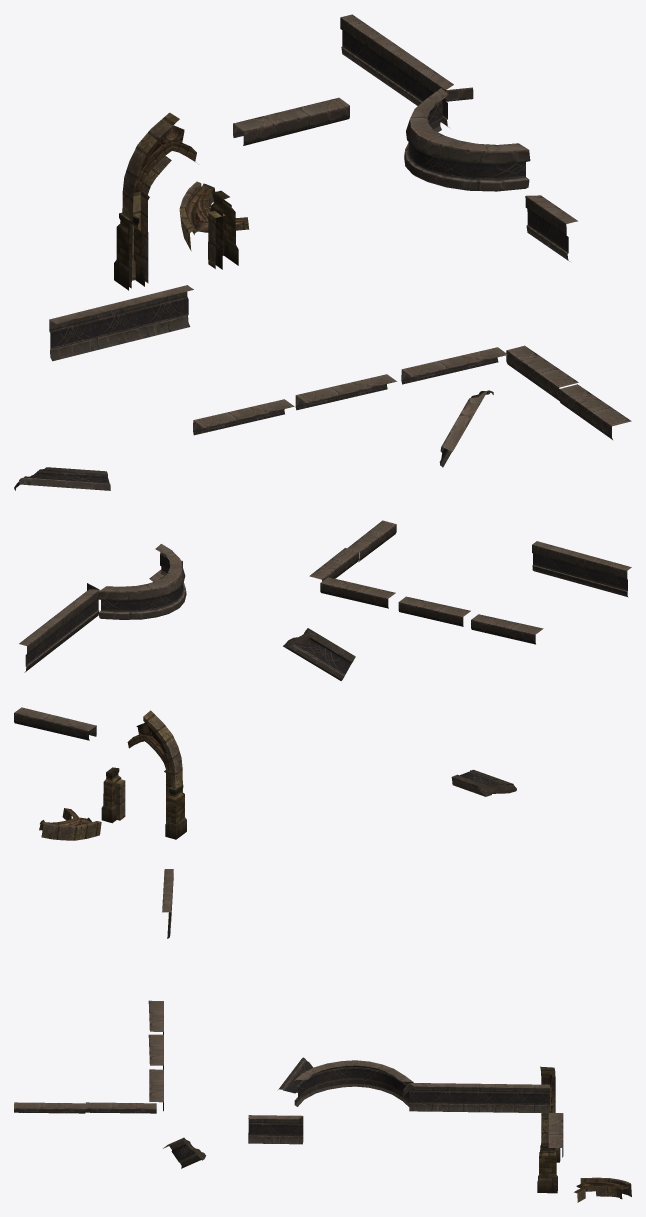
The model's file is slsd_qiangmi_02.FBX.
The picture shows the model from 3 angles, top to bottom: view 1: azimuth 30°, elevation 25°; view 2: azimuth 150°, elevation 25°; view 3: azimuth 270°, elevation 25°; orthographic projection. The views are drawn at different scales.
Parts seen in each view (by area): view 1: slsd_qiangmi_02; view 2: slsd_qiangmi_02; view 3: slsd_qiangmi_02.
Boxes of the visible parts, bbox=[...] form: slsd_qiangmi_02: bbox=[14, 14, 631, 490]; slsd_qiangmi_02: bbox=[14, 520, 631, 840]; slsd_qiangmi_02: bbox=[14, 869, 631, 1202].
Size of the model in its own units: 4646 by 2041 by 6204.
